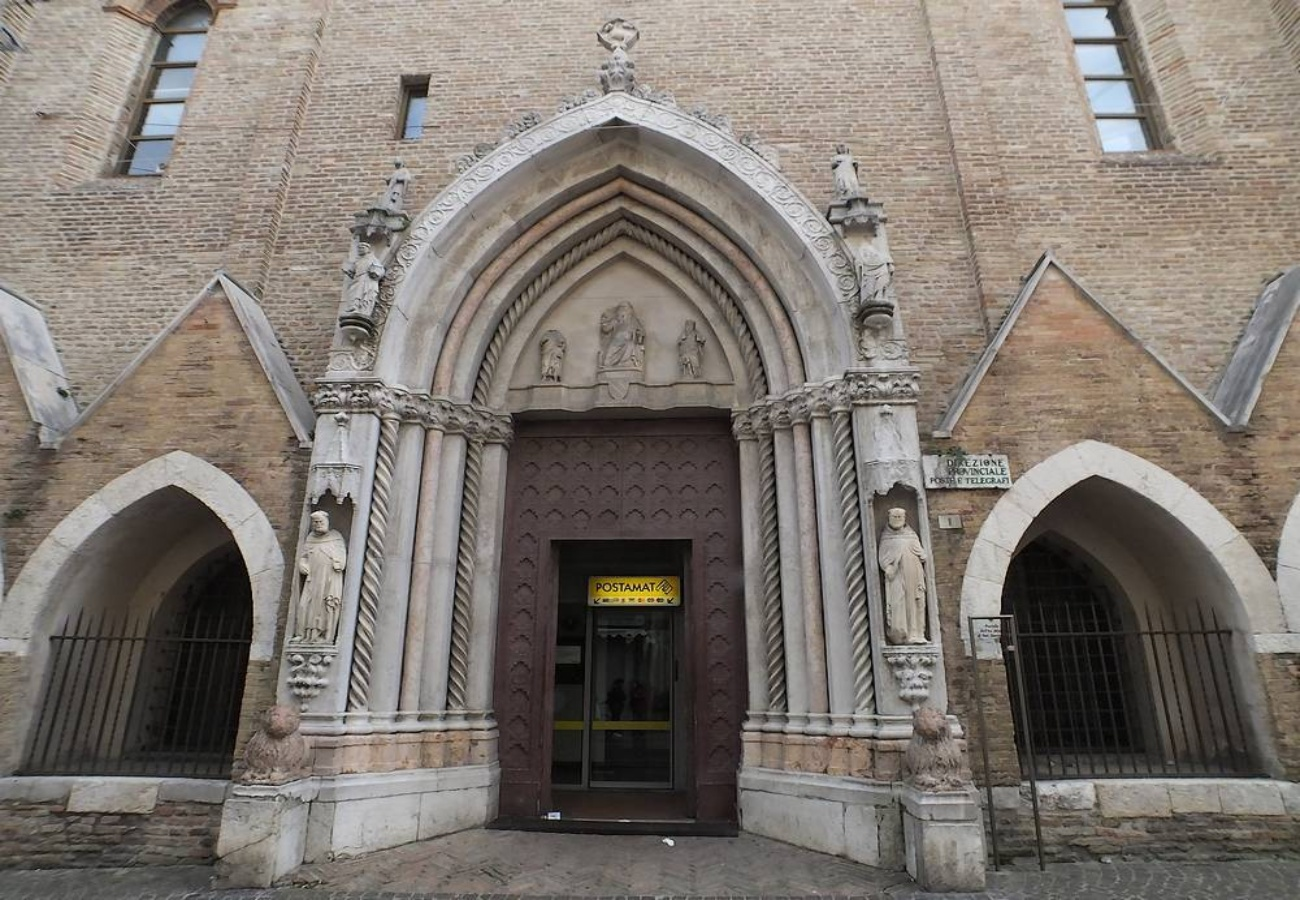Portale San Domenico: (212, 20, 978, 867)
